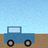vehicle: (4, 27, 34, 47)
